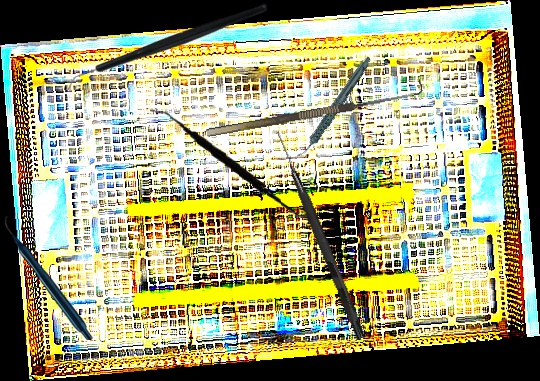Chopper: (65, 3, 267, 94)
Handpiece: (279, 55, 389, 159), (4, 216, 93, 340)
Hook Surgical: (270, 130, 369, 340), (203, 79, 425, 137)
Spatula Surgical: (143, 106, 322, 219)
